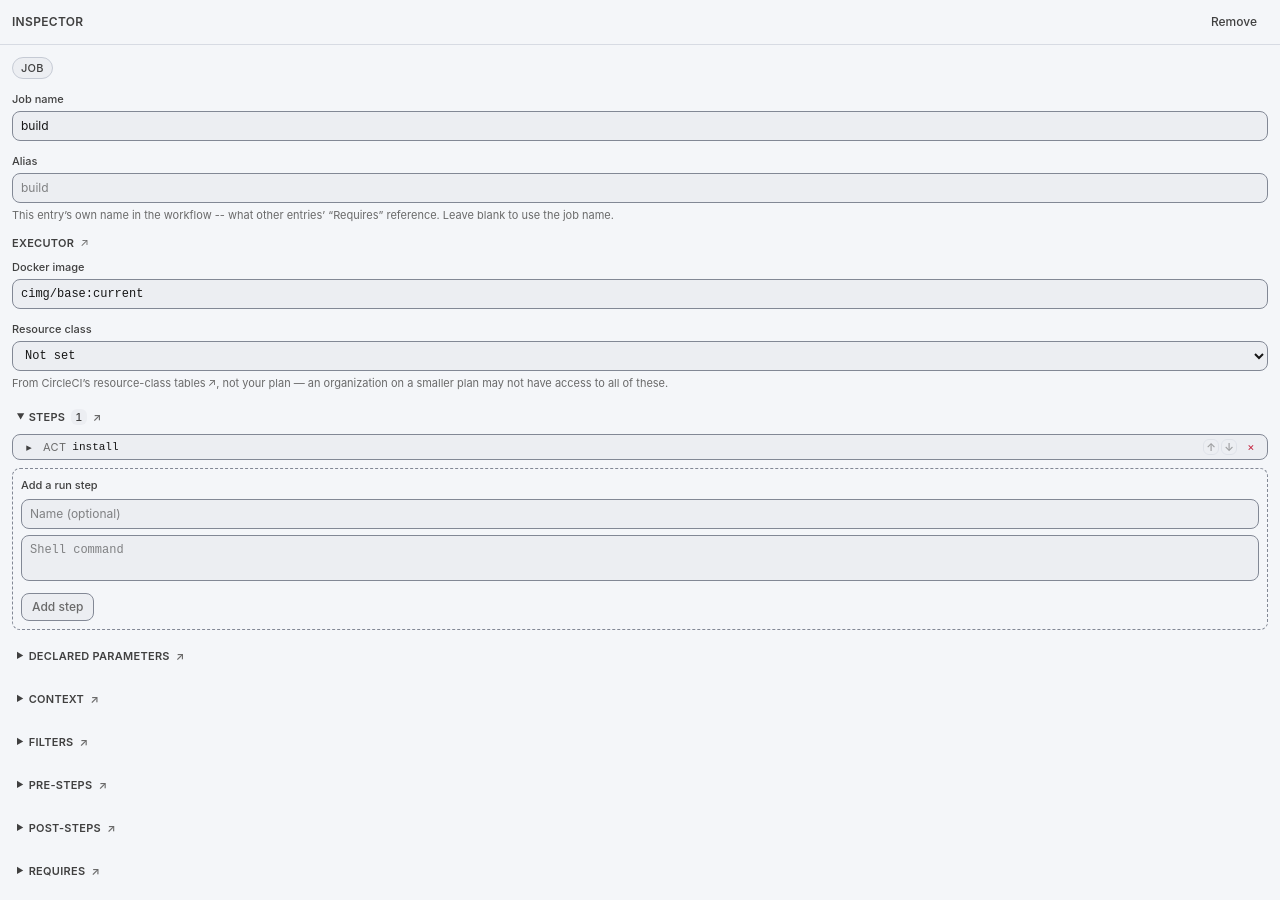
Inspector -- an orb command step is editable (issue #252) › falls back to the already-set parameters, with the reason, when the orb cannot be fetched
This screenshot has width=1280, height=900.
Click the button named "expand install" at (29, 447), box [21,439,37,455]
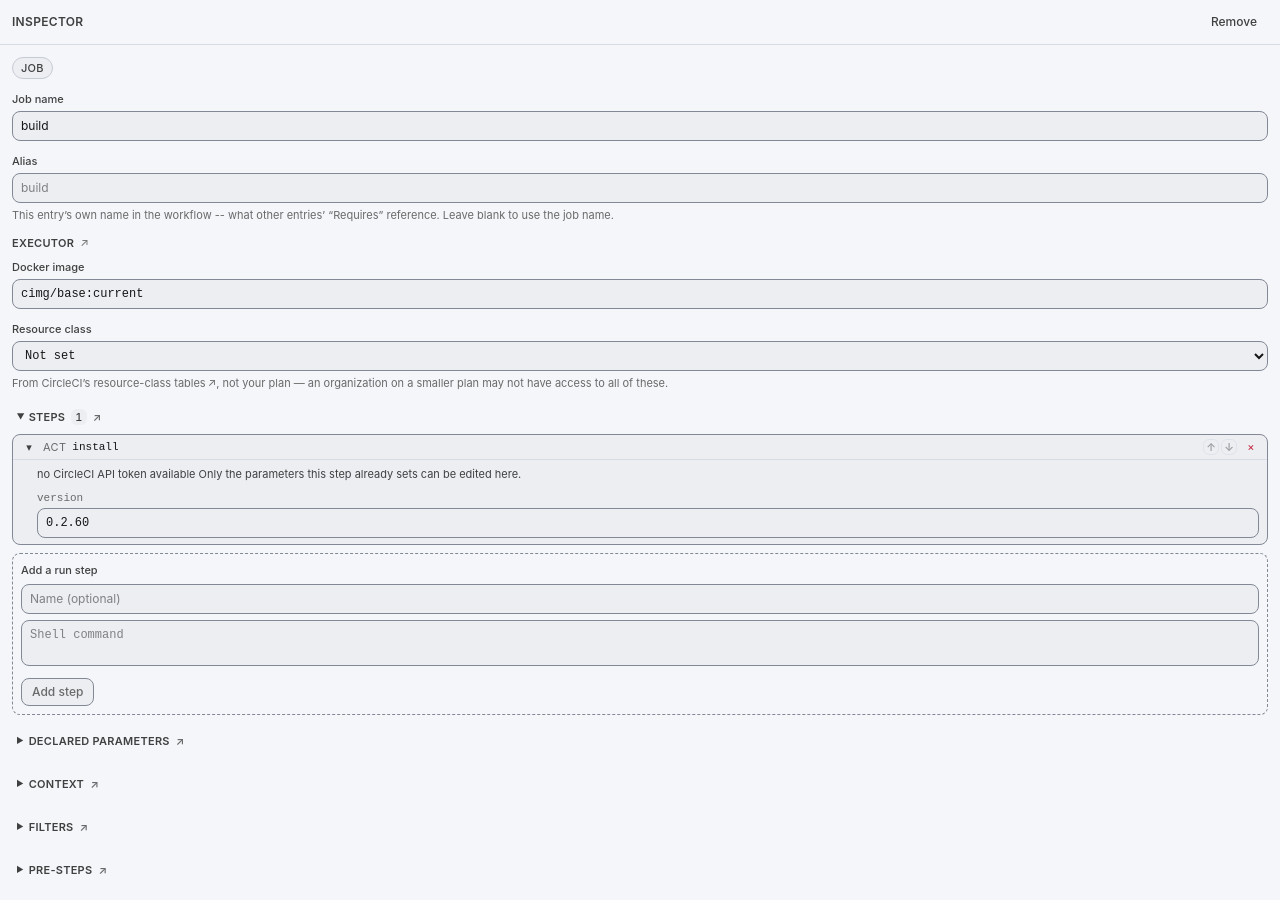
expect the text "no CircleCI API token available" is shown: met, box [37,467,196,481]
expect the field labelled "version" is shown: met, box [37,508,1259,538]
